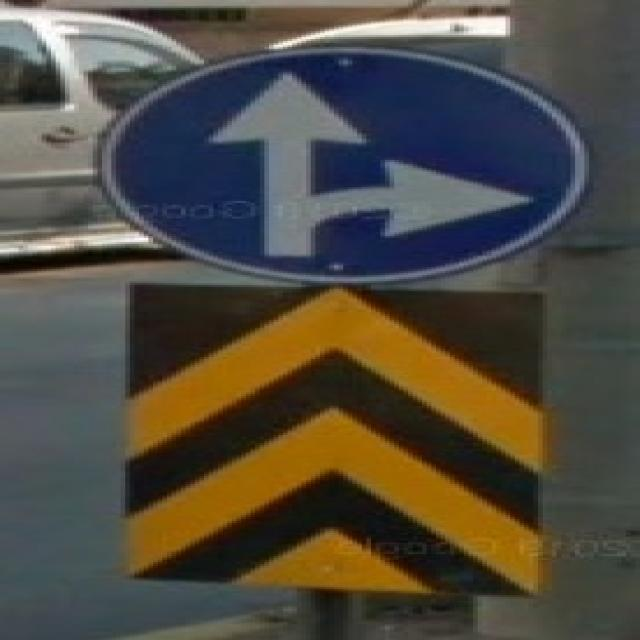Straight or Right: (89, 48, 581, 278)
